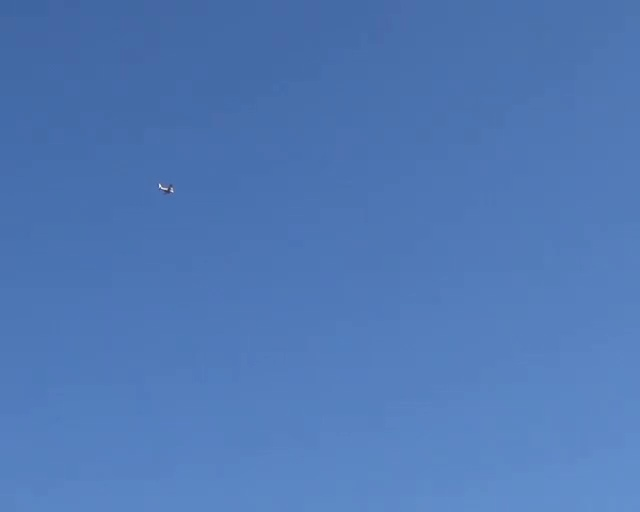AIRPLANE: (157, 182, 174, 194)
